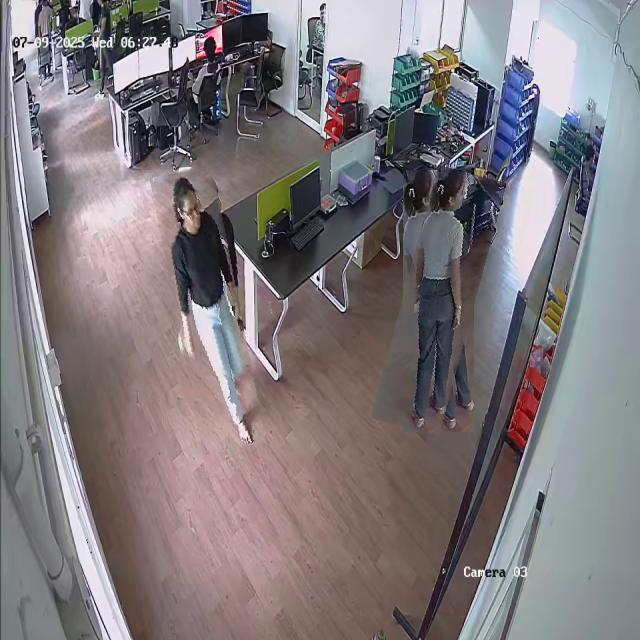person: (387, 168, 490, 434), (163, 168, 253, 454)
